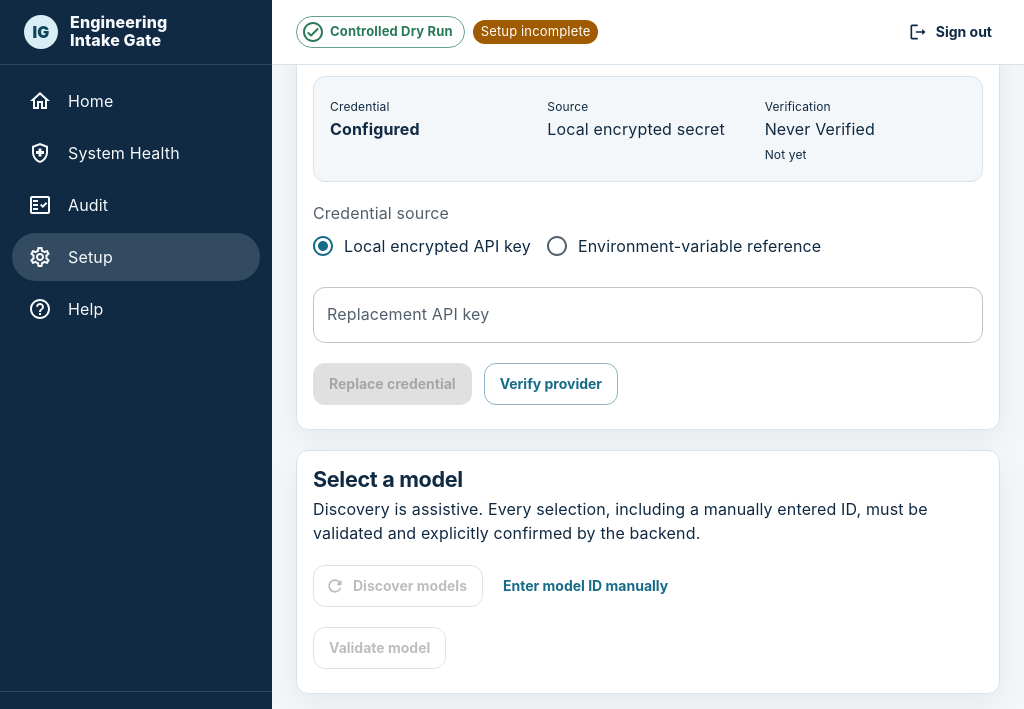
Test: Phase 4B authoritative setup wizard › AI-009 shows a bounded provider verification failure without exposing the submitted key
(page scrolled)
Expected: the heading "OpenAI credential" is shown, [313,1,497,27]
Click the button "Verify provider". click: (551, 384)
box: [484,363,618,405]
(page scrolled)
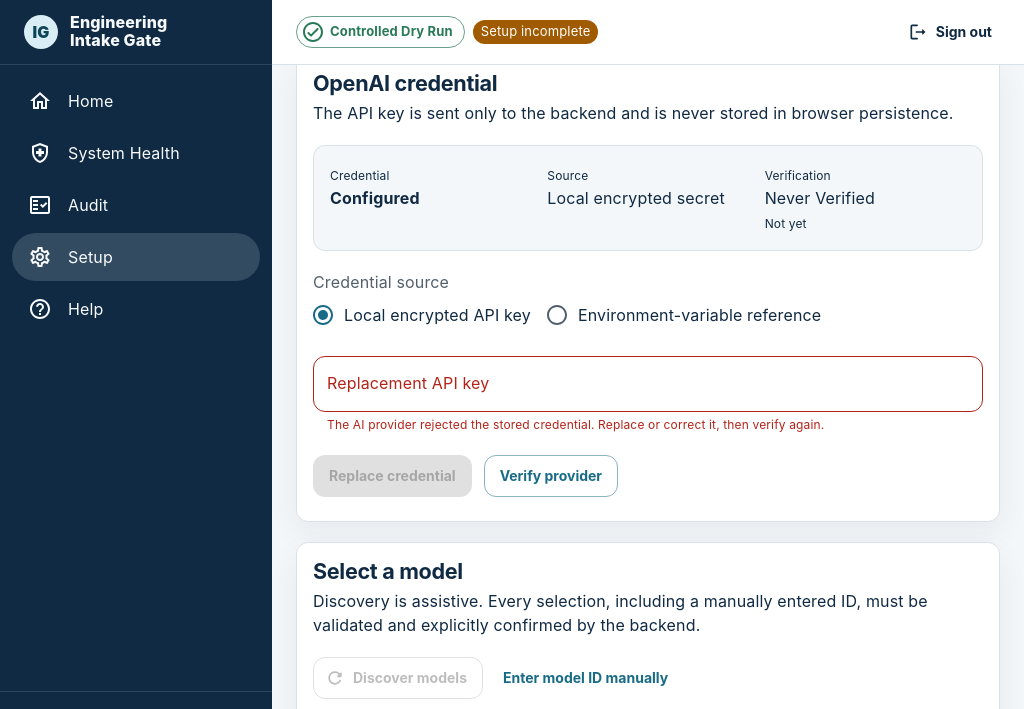
Now the text "The AI provider rejected the stored credential. Replace or correct it, then verify again." is shown, box [327,417,824,432]
